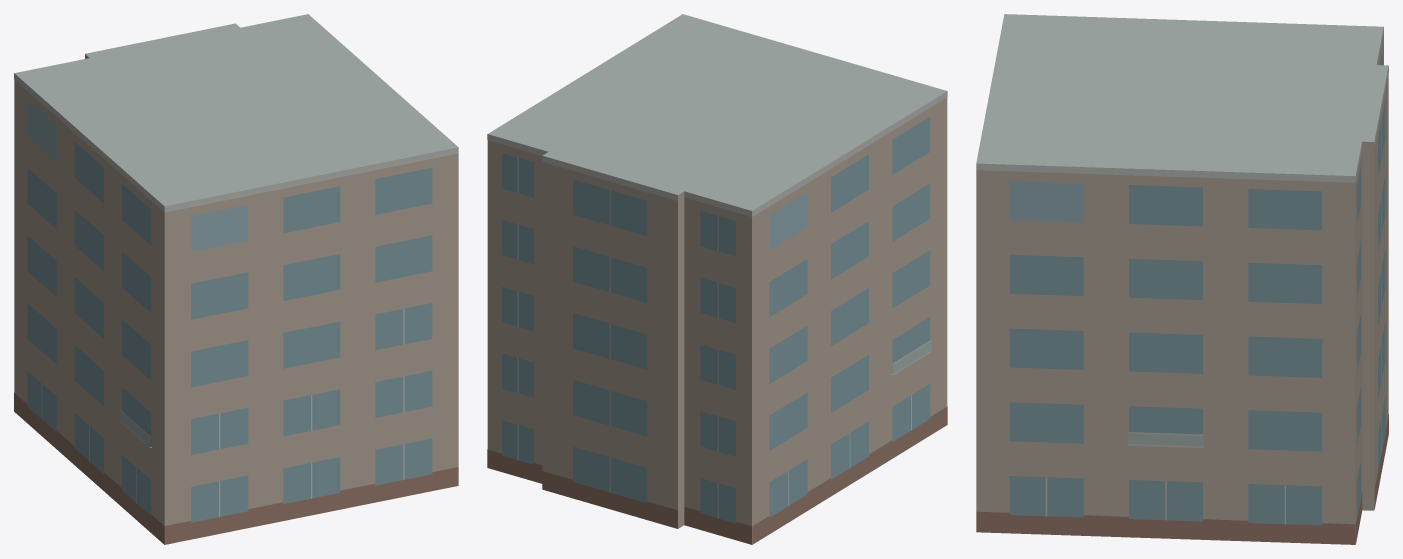
The model's file is survey-upis-32869588.glb.
3 renders of one model, left to right at view 1: azimuth 30°, elevation 25°; view 2: azimuth 150°, elevation 25°; view 3: azimuth 270°, elevation 25°, orthographic. The views are drawn at different scales.
Visible parts, largest first — view 1: survey-upis-32869588.tmp; view 2: survey-upis-32869588.tmp; view 3: survey-upis-32869588.tmp.
Boxes of the visible parts, x1=… form: survey-upis-32869588.tmp: x1=14, y1=14, x2=458, y2=544; survey-upis-32869588.tmp: x1=487, y1=14, x2=947, y2=544; survey-upis-32869588.tmp: x1=976, y1=14, x2=1388, y2=544.
Size of the model in its own units: 12.65 by 13.4 by 13.6.
